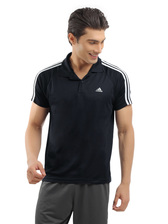clothoes: (23, 52, 135, 187)
